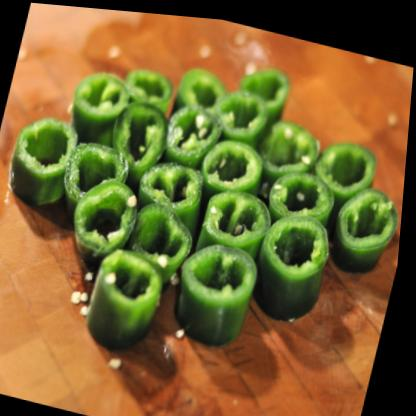chilli_pepper: (167, 225, 266, 356), (251, 195, 342, 324), (81, 242, 174, 354), (1, 104, 89, 212), (65, 168, 148, 269), (328, 169, 407, 275), (159, 89, 228, 170)
